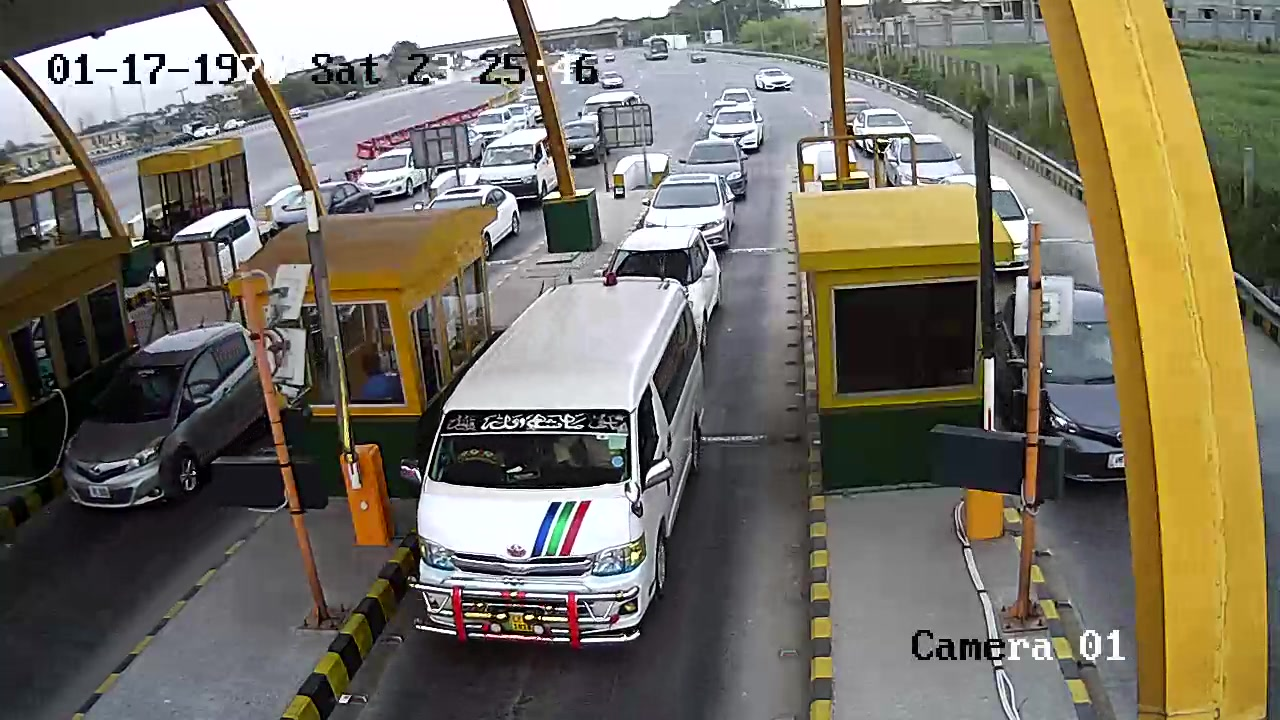F2: (393, 279, 714, 648)
